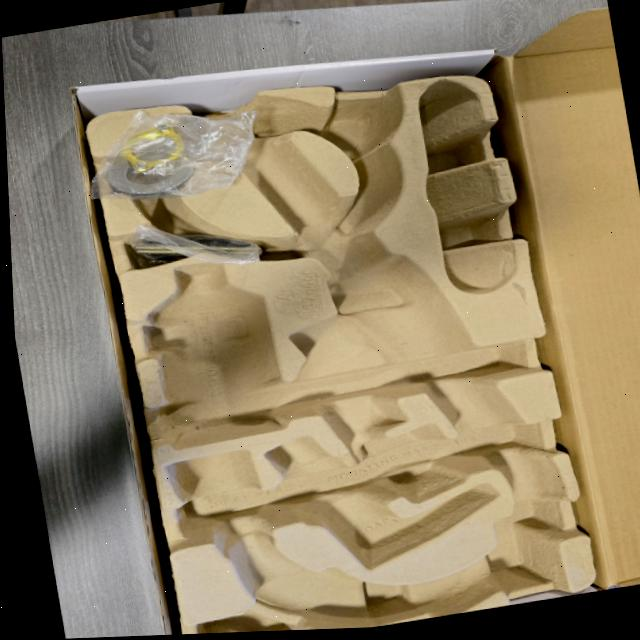1m: (168, 90, 568, 629)
2m: (265, 434, 499, 571)
3m: (145, 262, 288, 450)
4m: (422, 77, 515, 291)
5m: (324, 95, 393, 156)
6: (91, 108, 260, 198)
7: (124, 223, 262, 264)
